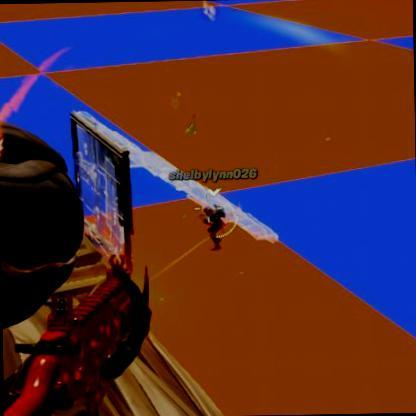person: (197, 207, 234, 252)
